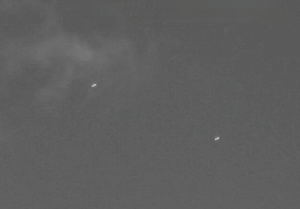Target: (92, 85, 218, 139)
